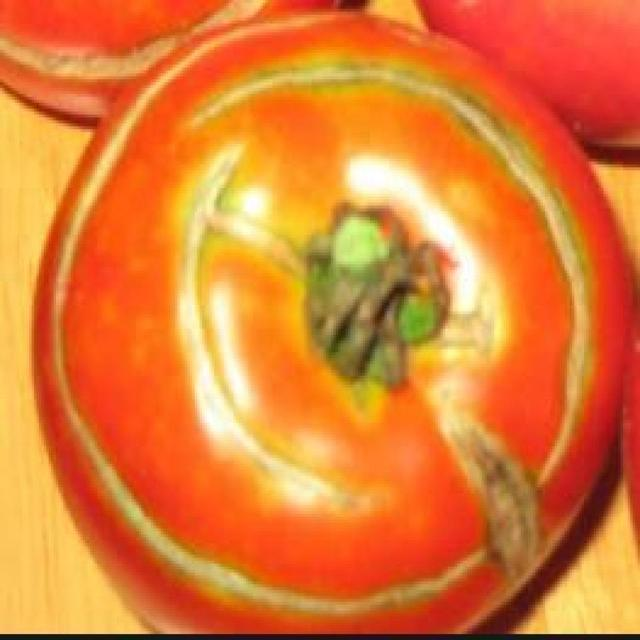Cracking Fruit: (118, 188, 371, 401)
